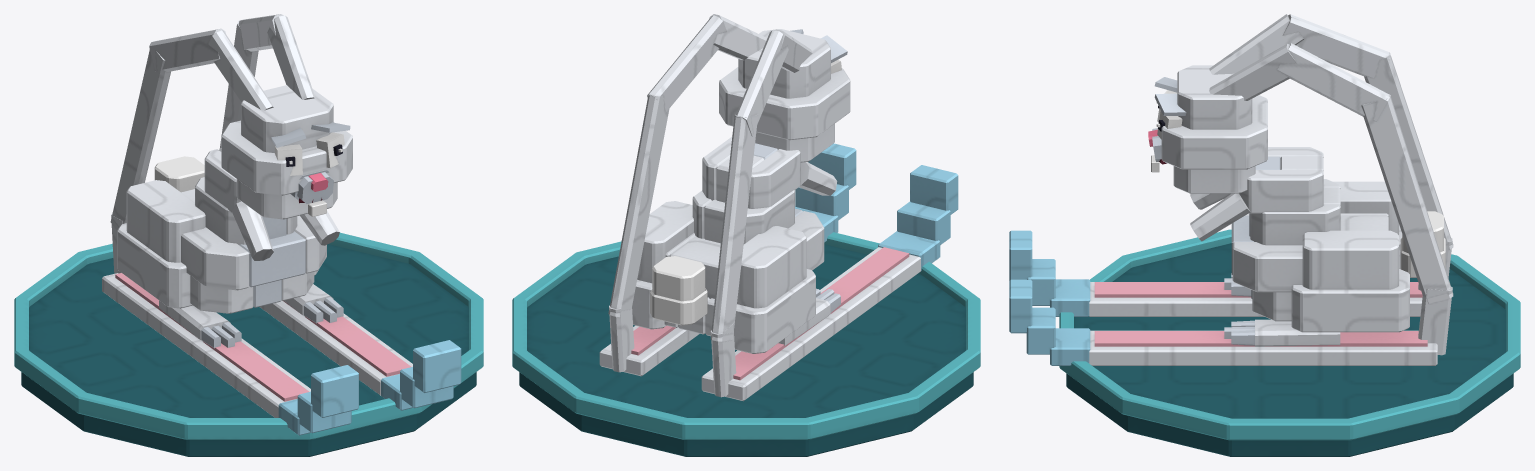
File: SkiEarHare.fbx
3 renders of one model, left to right at view 1: azimuth 30°, elevation 25°; view 2: azimuth 150°, elevation 25°; view 3: azimuth 270°, elevation 25°, orthographic.
Visible parts, largest first — view 1: Art_SkiEarHare_Stand, Art_SkiEarHare_Body, Art_SkiEarHare_Head, Art_SkiEarHare_EarR, Art_SkiEarHare_EarL; view 2: Art_SkiEarHare_Stand, Art_SkiEarHare_Body, Art_SkiEarHare_EarL, Art_SkiEarHare_Head, Art_SkiEarHare_EarR; view 3: Art_SkiEarHare_Body, Art_SkiEarHare_Stand, Art_SkiEarHare_EarL, Art_SkiEarHare_Head, Art_SkiEarHare_EarR.
Boxes of the visible parts, x1,y1,x2,y2 form: Art_SkiEarHare_Stand: (14,232,483,456); Art_SkiEarHare_Body: (102,148,461,435); Art_SkiEarHare_Head: (221,85,352,219); Art_SkiEarHare_EarR: (110,28,273,273); Art_SkiEarHare_EarL: (220,14,314,148); Art_SkiEarHare_Stand: (512,232,980,456); Art_SkiEarHare_Body: (599,136,958,401); Art_SkiEarHare_EarL: (608,14,767,372); Art_SkiEarHare_Head: (719,29,850,162); Art_SkiEarHare_EarR: (710,29,812,397); Art_SkiEarHare_Body: (1009,147,1445,365); Art_SkiEarHare_Stand: (1059,229,1520,456); Art_SkiEarHare_EarL: (1209,43,1453,355); Art_SkiEarHare_Head: (1148,65,1267,193); Art_SkiEarHare_EarR: (1209,14,1453,290).
Size of the model in its own units: 3.19 by 2.54 by 3.53.
